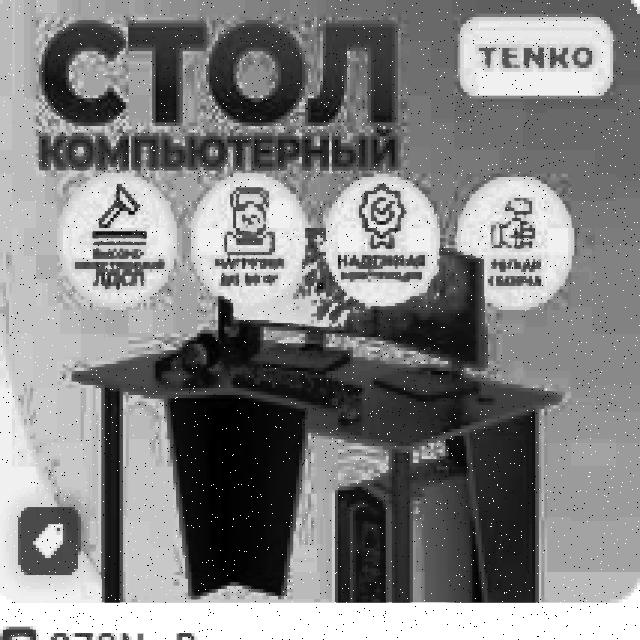table: (72, 333, 559, 602)
